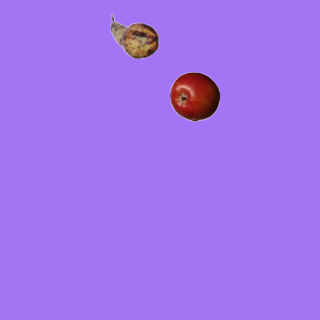Apple Braeburn: (169, 71, 219, 121)
Pear Abate: (109, 11, 159, 61)
